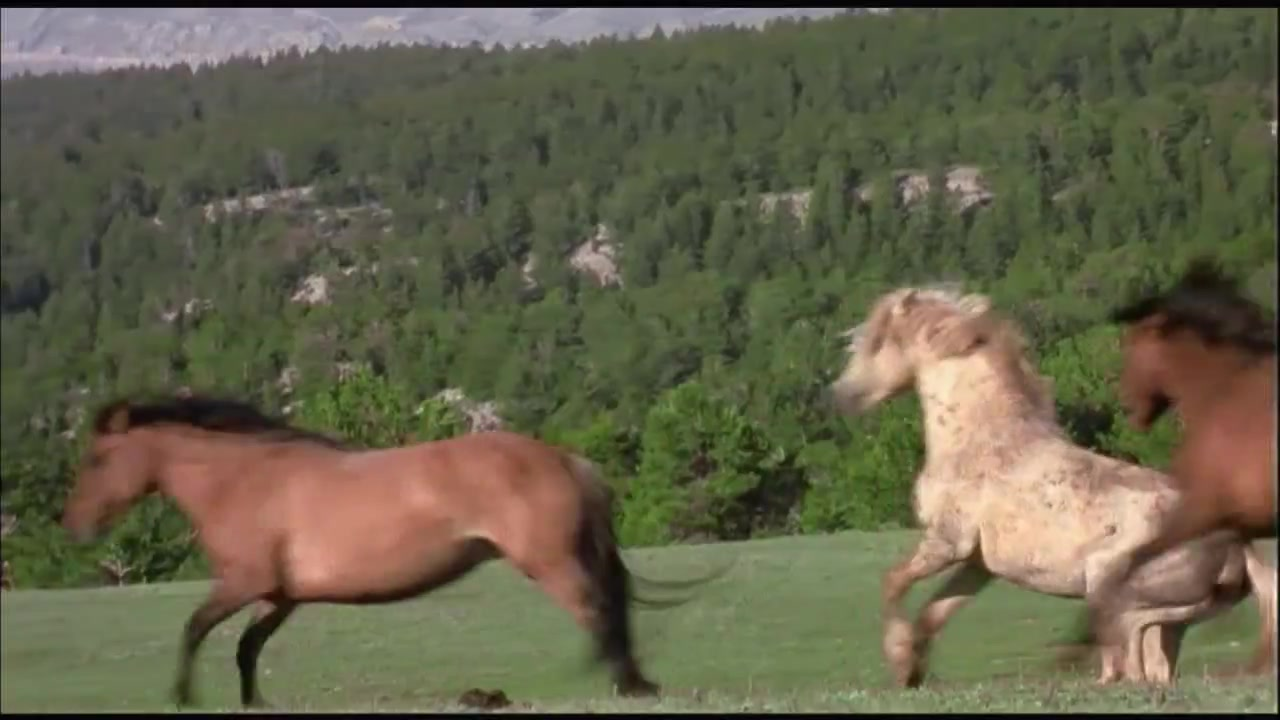horse: (65, 396, 735, 711)
